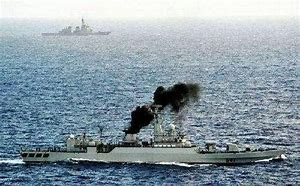smoke: (122, 83, 199, 130)
